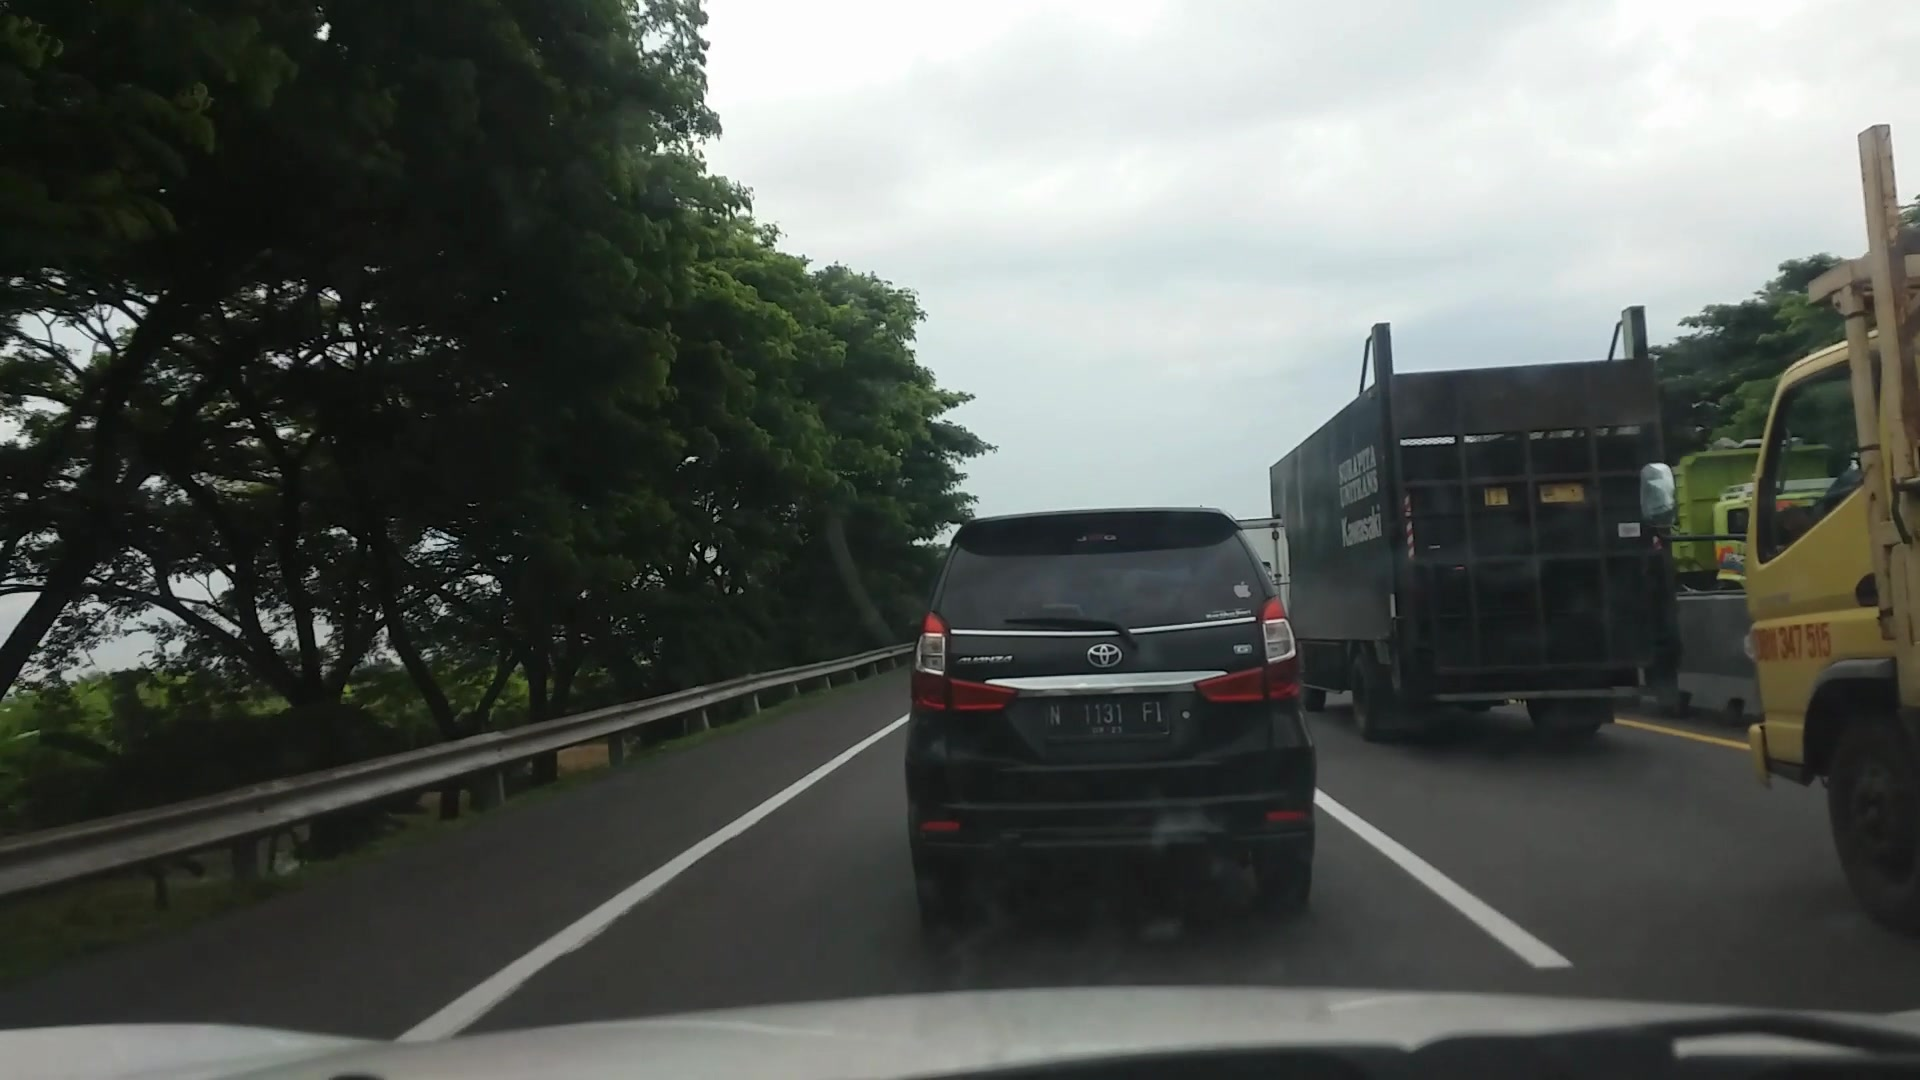plate_positive: (1044, 698, 1170, 738)
